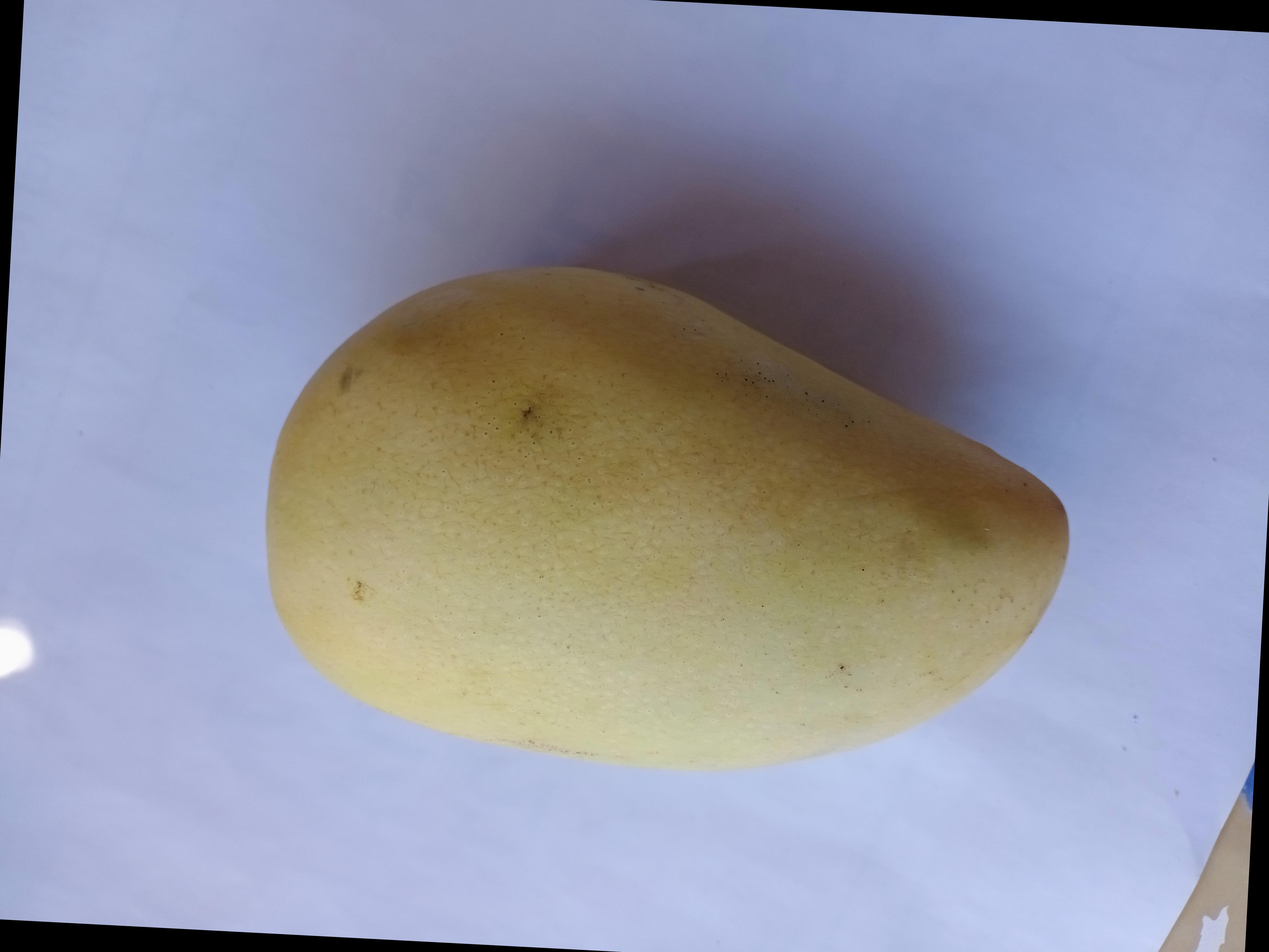Mango Ripe: (230, 180, 1156, 805)
